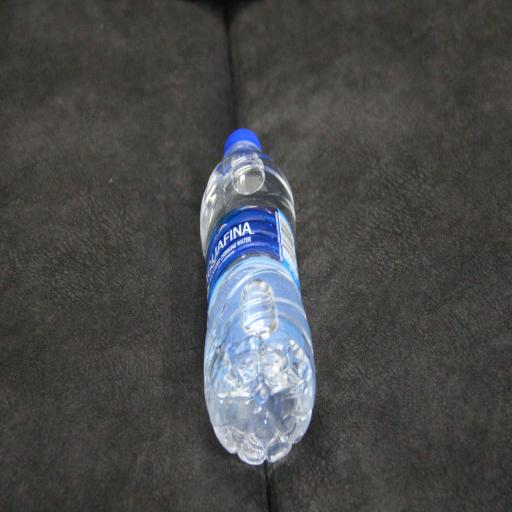Aquafina: (200, 129, 316, 465)
